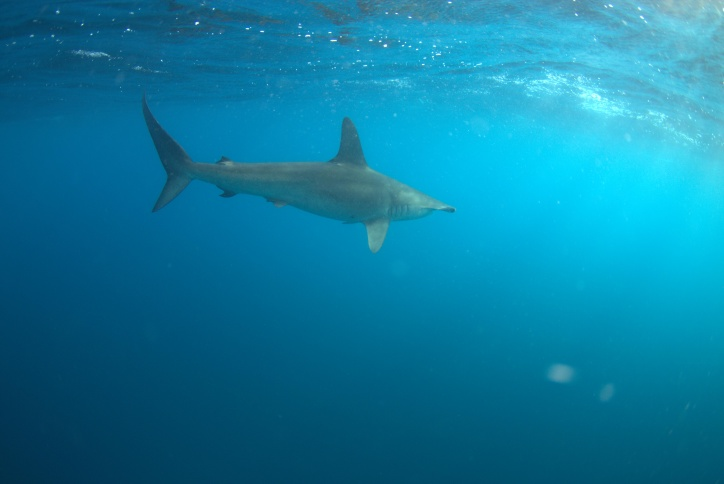Hammer: (110, 73, 476, 283)
